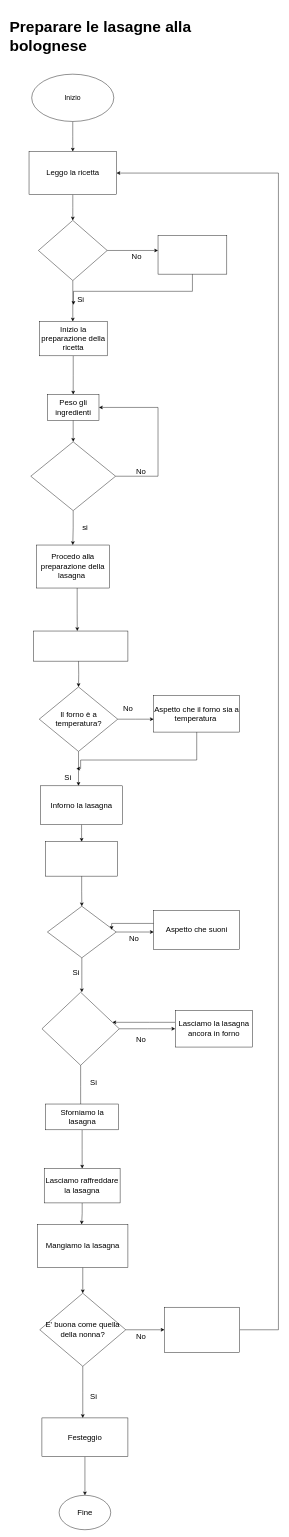
This 289x1537 diagram has some shape labels left out. The centre of each missing label's shape, as x and y in pixels:
Accendo il forno: pixel 80 646
Ho tutto il necessario?: pixel 72 250
Il peso degli ingredienti è quello indicato?: pixel 73 476
Il timer ha suonato?: pixel 81 932
Imposto il timer del forno: pixel 81 858
La lasagna è cotta?: pixel 80 1028
La regalo alla vicina!: pixel 202 1329
Mi procuro tutto il necessario: pixel 192 254
